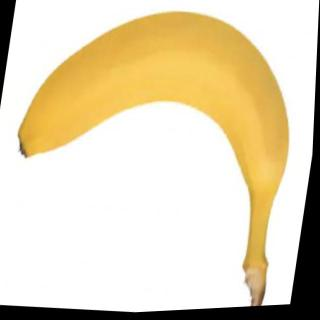banana: (9, 0, 311, 212)
